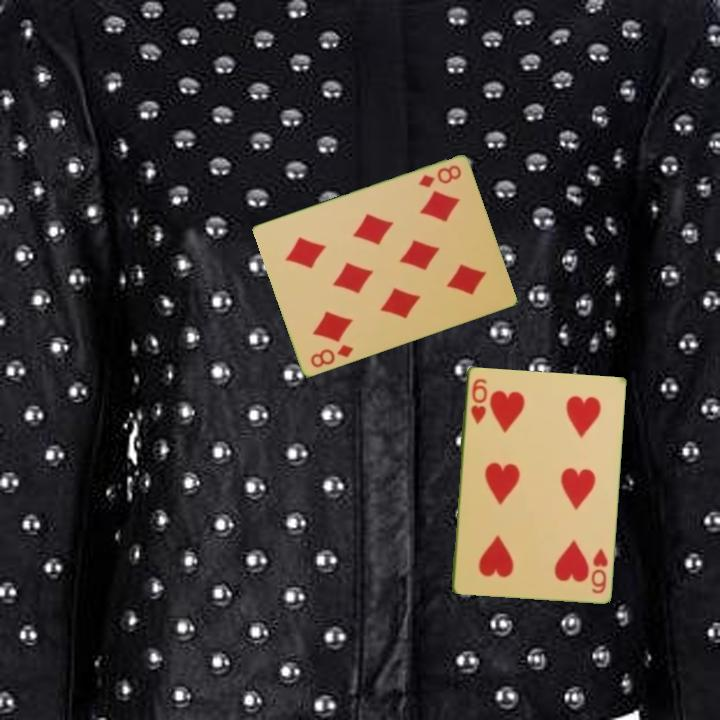6h: (467, 375, 490, 426), (587, 545, 610, 596)
8d: (307, 341, 356, 371), (415, 162, 464, 191)
